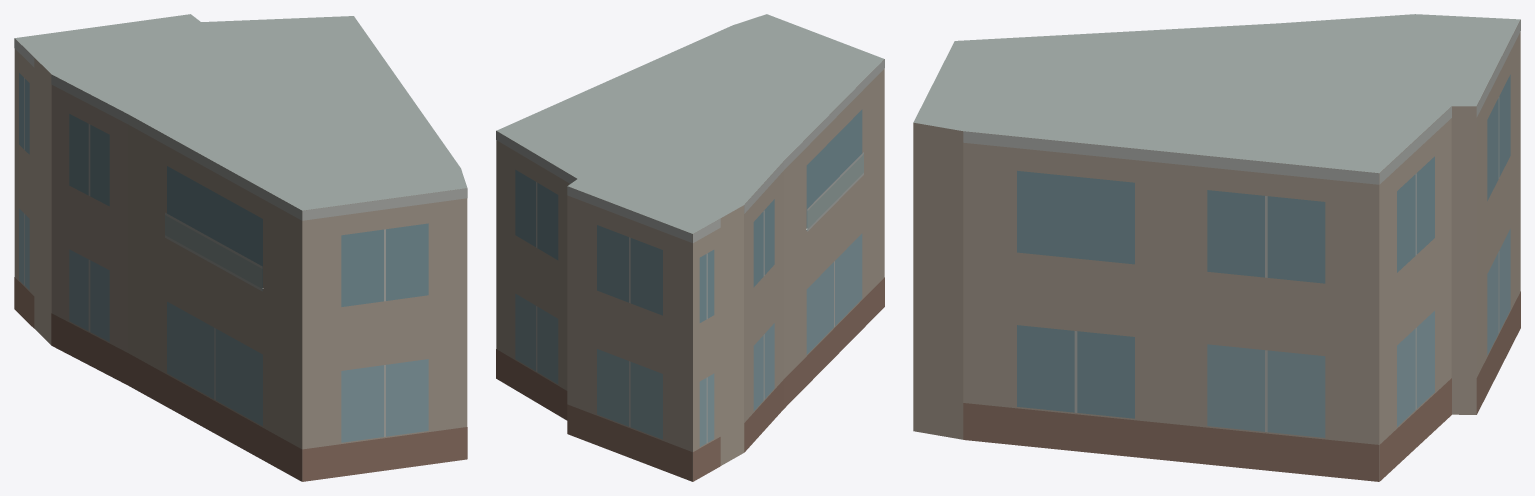
Rendered from survey-upis-32499152.glb.
The picture shows the model from 3 angles, left to right: view 1: azimuth 30°, elevation 25°; view 2: azimuth 150°, elevation 25°; view 3: azimuth 270°, elevation 25°; orthographic projection. The views are drawn at different scales.
Parts seen in each view (by area): view 1: survey-upis-32499152.tmp; view 2: survey-upis-32499152.tmp; view 3: survey-upis-32499152.tmp.
Boxes of the visible parts, left/top/right/bottom form: survey-upis-32499152.tmp: left=14, top=14, right=467, bottom=481; survey-upis-32499152.tmp: left=496, top=14, right=884, bottom=481; survey-upis-32499152.tmp: left=913, top=14, right=1520, bottom=481.
Size of the model in its own units: 7.2 by 6.5 by 11.61.
